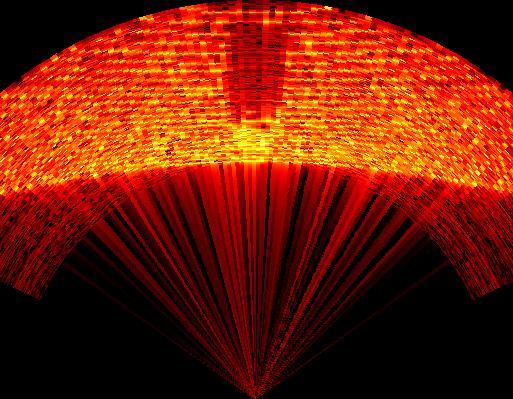box_crate: (230, 21, 284, 115)
